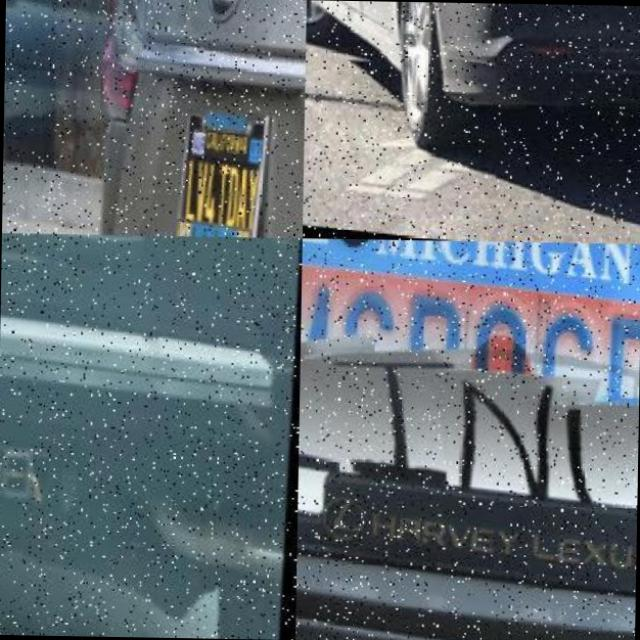LicensePlate: (294, 237, 640, 563), (167, 112, 267, 238), (1, 232, 108, 292)
